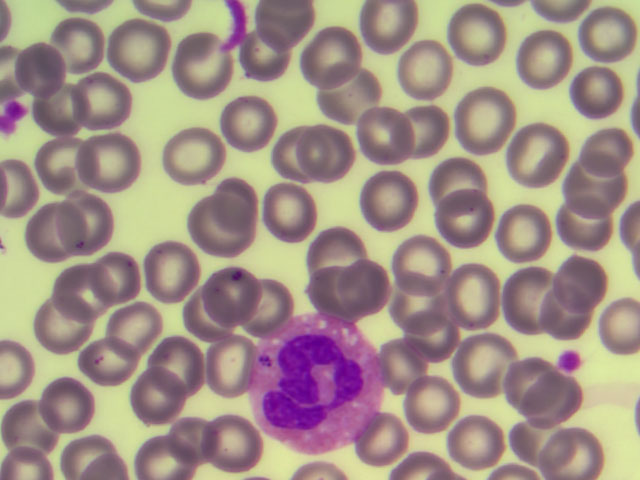Platelets: (554, 346, 580, 376), (2, 101, 23, 133)
RBC: (139, 424, 192, 480), (56, 424, 109, 480), (551, 424, 604, 480), (17, 43, 70, 98), (46, 16, 99, 71), (108, 25, 161, 80), (80, 75, 133, 130), (45, 84, 98, 139), (90, 138, 143, 193), (39, 136, 92, 191), (18, 206, 71, 261), (64, 189, 117, 244), (90, 245, 143, 300), (55, 264, 108, 319), (36, 294, 89, 349), (80, 335, 133, 390), (113, 301, 166, 356), (140, 237, 193, 292), (185, 201, 238, 256), (207, 168, 260, 223), (165, 135, 218, 190), (224, 94, 277, 149), (177, 37, 230, 92), (229, 29, 282, 84), (306, 28, 359, 83), (325, 73, 378, 128), (365, 112, 418, 167), (295, 126, 348, 181), (271, 129, 324, 184), (262, 181, 315, 236), (308, 222, 361, 277), (342, 261, 395, 316), (307, 264, 360, 319), (245, 275, 298, 330), (206, 267, 259, 322), (191, 289, 244, 344), (203, 338, 256, 393), (147, 337, 200, 392), (130, 371, 183, 426), (174, 413, 227, 468), (206, 416, 259, 471), (38, 367, 91, 422), (8, 400, 61, 455), (353, 411, 406, 466), (408, 381, 461, 436), (377, 347, 430, 402), (402, 307, 455, 362), (387, 280, 440, 335), (393, 235, 446, 290), (360, 184, 413, 239), (419, 153, 472, 208), (441, 188, 494, 243), (500, 200, 553, 255), (507, 131, 560, 186), (464, 97, 517, 152), (401, 47, 454, 102), (364, 4, 417, 59), (447, 11, 500, 66), (517, 25, 570, 80), (574, 12, 627, 67), (573, 66, 626, 121), (587, 116, 640, 171), (563, 167, 616, 222), (559, 201, 612, 256), (558, 247, 611, 302), (542, 298, 595, 353), (507, 273, 560, 328), (455, 270, 508, 325), (461, 334, 514, 389), (501, 352, 554, 407), (530, 380, 583, 435), (505, 420, 558, 475), (448, 414, 501, 469), (587, 300, 640, 355), (257, 1, 310, 55)
WBC: (253, 315, 371, 453)
